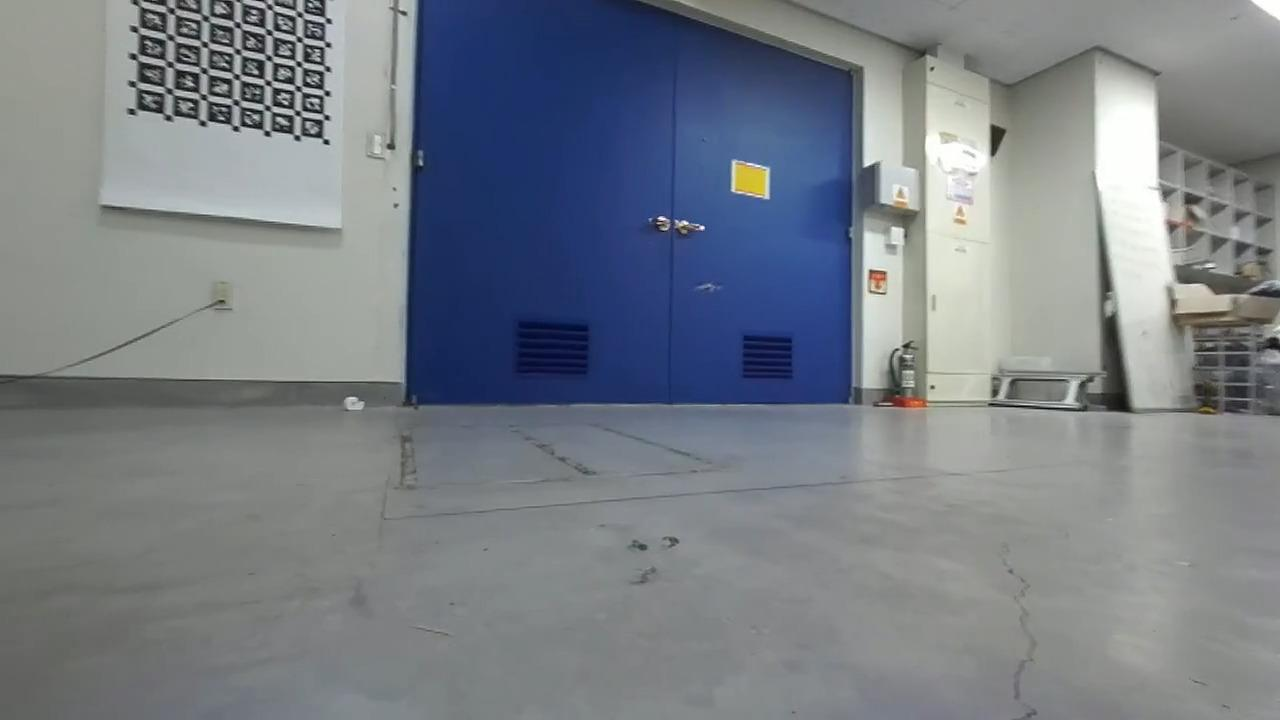crazyflie: (690, 278, 728, 297)
